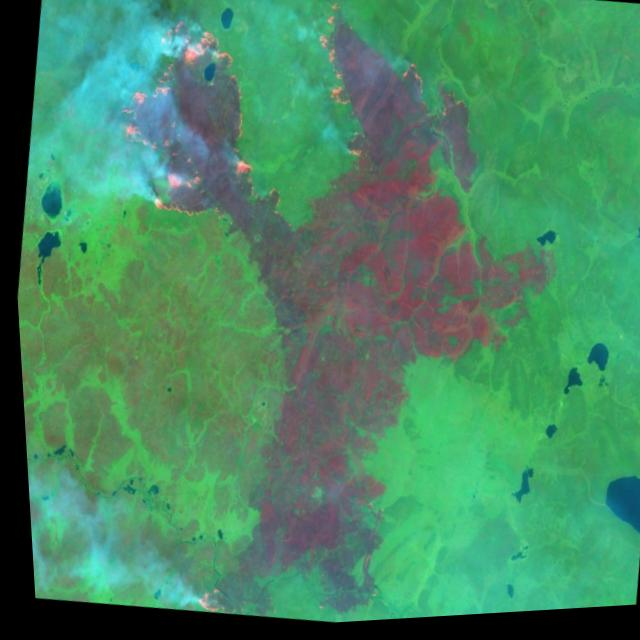fire: (97, 2, 281, 235), (295, 0, 446, 195)
